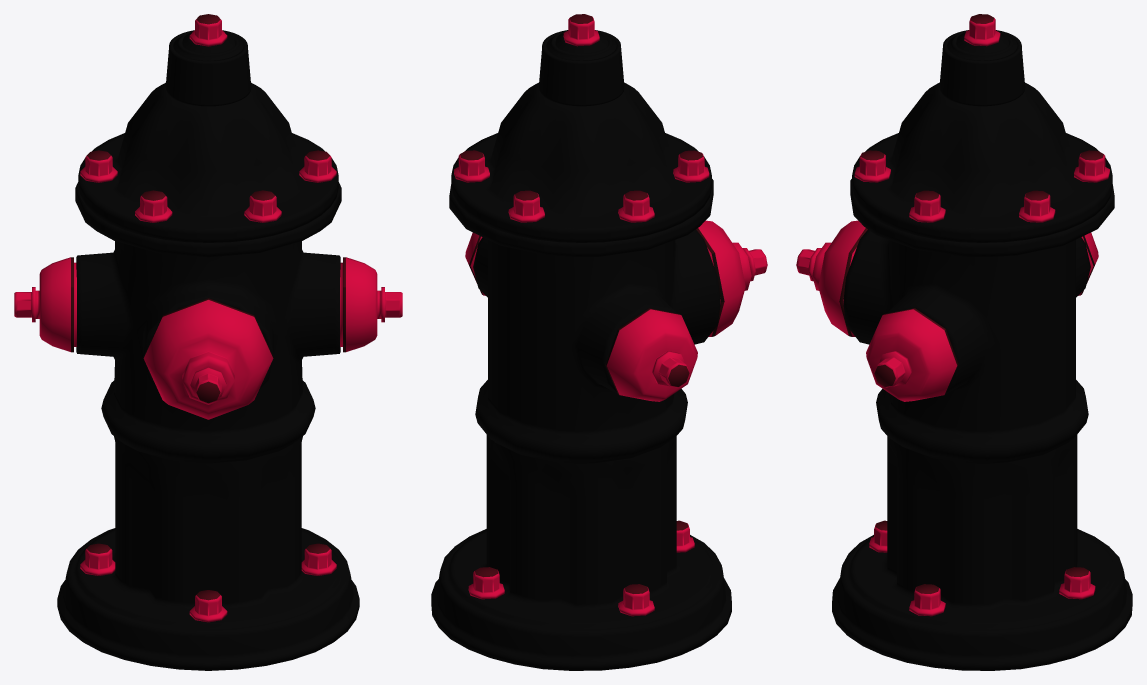
The model's file is fire_hydrant_red.dae.
3 views of the same model, side by side, from view 1: azimuth 30°, elevation 25°; view 2: azimuth 150°, elevation 25°; view 3: azimuth 270°, elevation 25° (orthographic).
Parts seen in each view (by area): view 1: fire_hydre; view 2: fire_hydre; view 3: fire_hydre.
Part boxes in pixels (x1,y1,x2,y2): fire_hydre: (14,14,402,670); fire_hydre: (431,14,767,670); fire_hydre: (796,14,1132,670).
Size of the model in its own units: 2.2 by 2.12 by 4.08.
